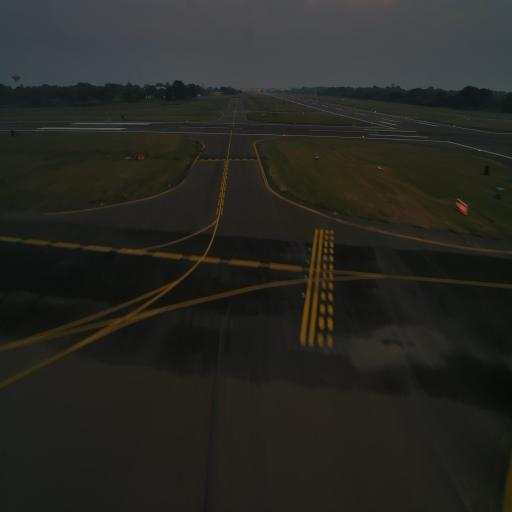off: (304, 269, 310, 281), (300, 288, 306, 300), (308, 243, 313, 254), (306, 256, 311, 267)
